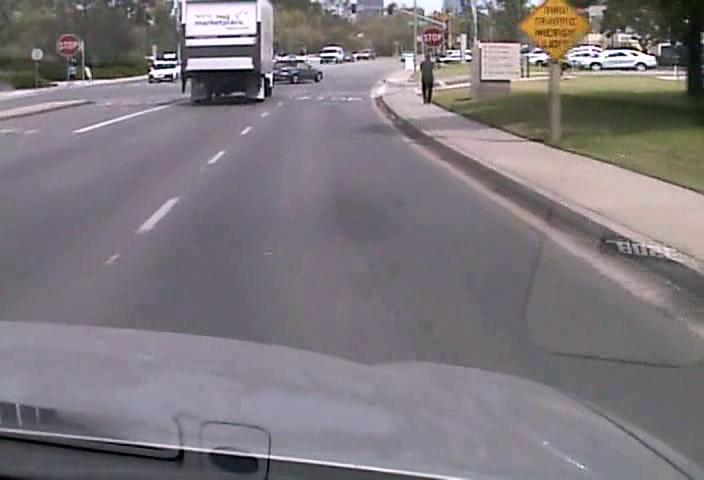stop: (421, 26, 443, 48)
